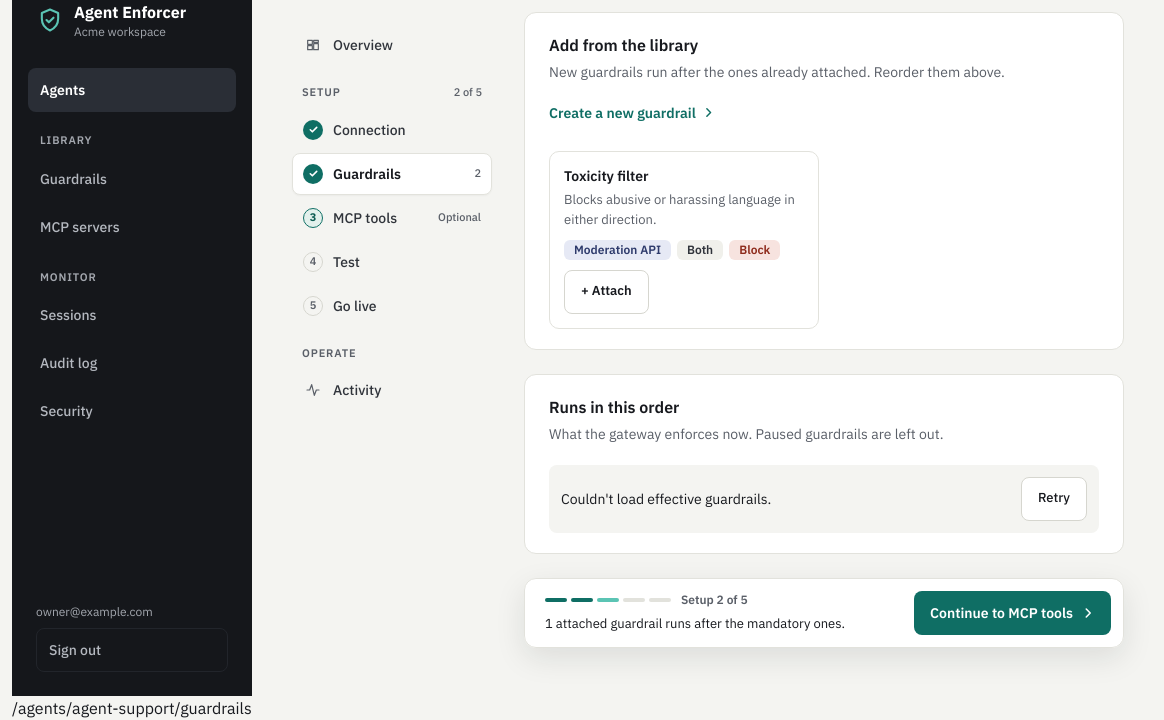
Test: Agent guardrails step (bindings) › shows and retries an effective guardrails error
(page scrolled)
Check: the text "Couldn't load effective guardrails." is shown, box [561, 488, 771, 508]
Click the button "Retry" at (1054, 498), box [1021, 476, 1087, 520]
(page scrolled)
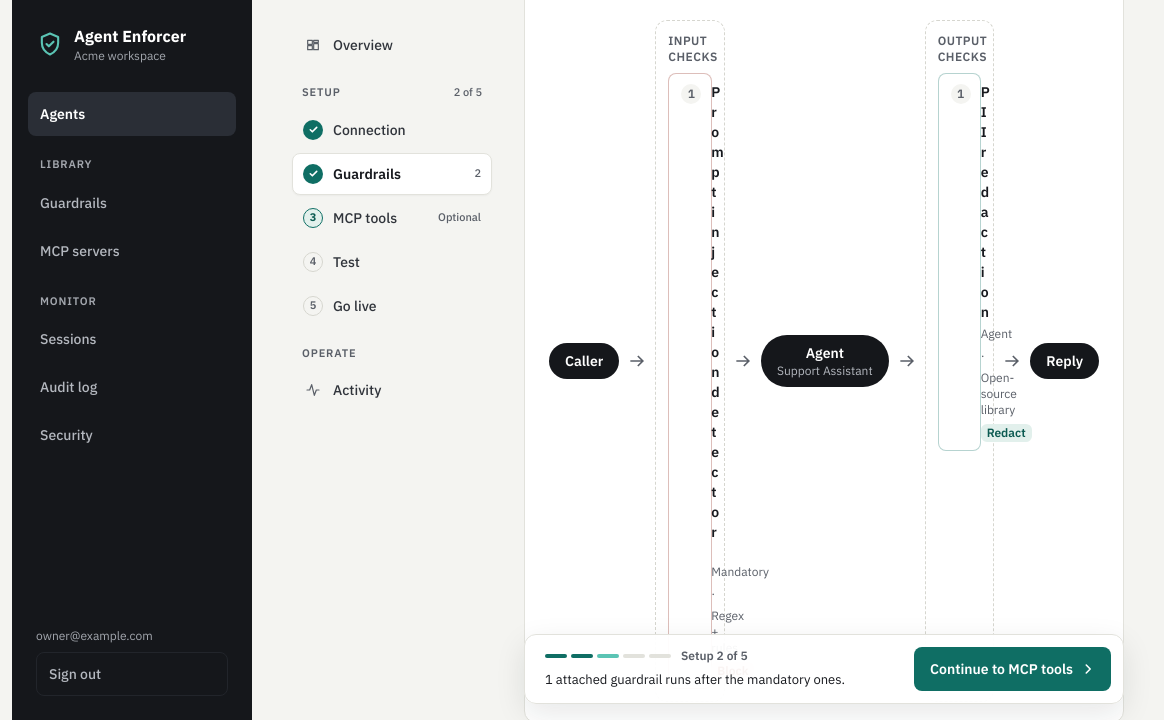
Check: the element named "Guardrail order" is shown, box [549, 20, 1099, 702]
